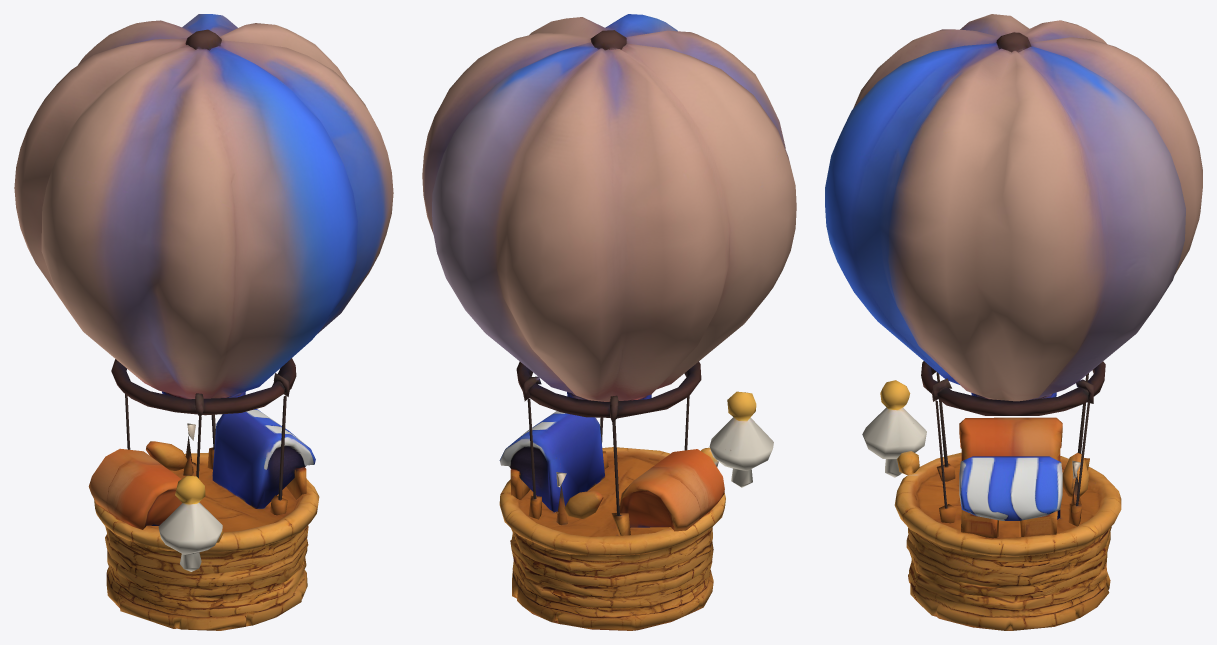
File: globo.glb
3 renders of one model, left to right at view 1: azimuth 30°, elevation 25°; view 2: azimuth 150°, elevation 25°; view 3: azimuth 270°, elevation 25°, orthographic.
Parts seen in each view (by area): view 1: tripo_node_9be3d4cf-ed99-4009-8e68-e5869f1657f2; view 2: tripo_node_9be3d4cf-ed99-4009-8e68-e5869f1657f2; view 3: tripo_node_9be3d4cf-ed99-4009-8e68-e5869f1657f2.
Boxes of the visible parts, left/top/right/bottom form: tripo_node_9be3d4cf-ed99-4009-8e68-e5869f1657f2: left=14, top=14, right=393, bottom=630; tripo_node_9be3d4cf-ed99-4009-8e68-e5869f1657f2: left=422, top=14, right=796, bottom=630; tripo_node_9be3d4cf-ed99-4009-8e68-e5869f1657f2: left=825, top=14, right=1202, bottom=630.
Bounding box in the file's own units: 0.6152 × 0.998 × 0.6152.
1 material, 1 textured.
